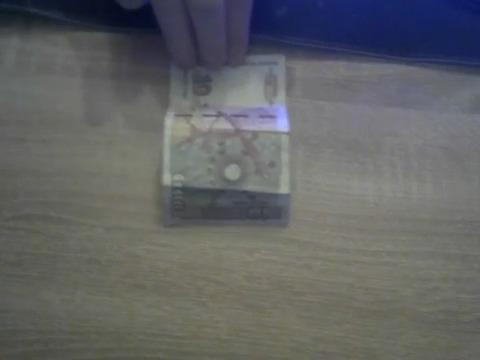10leva: (161, 54, 294, 228)
